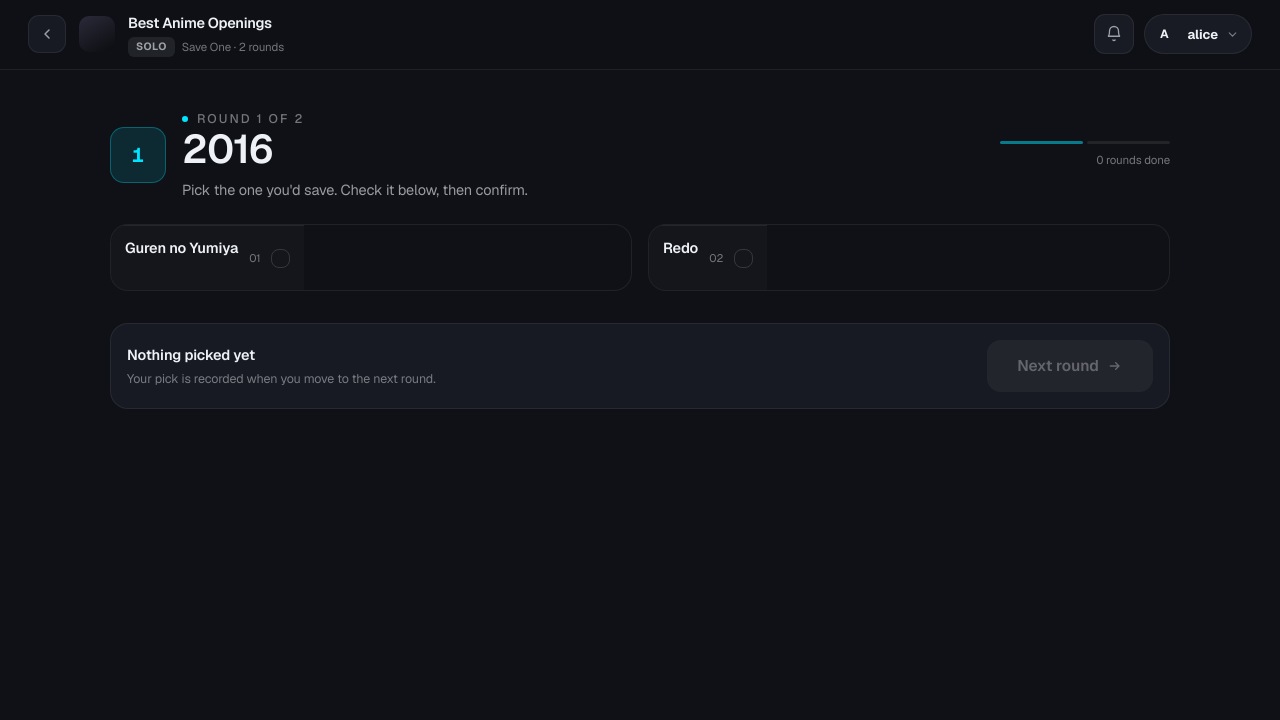
Test case: PlayScreen › writes the last-play picks without waiting for the record request
Expected: the text "Guren no Yumiya" is shown, [125,238,238,257]
Click the text "Redo": click(681, 248) [663,238,698,257]
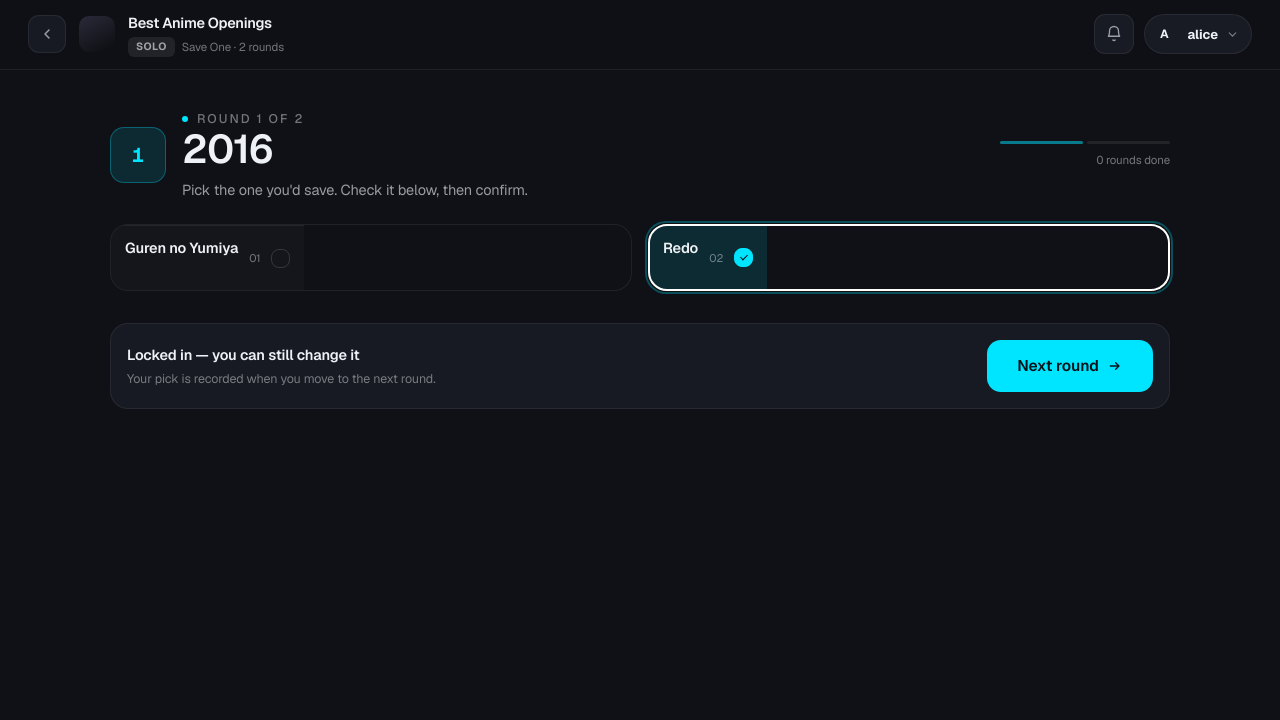
Click the button "Next round": click(1070, 366) [987,340,1153,392]
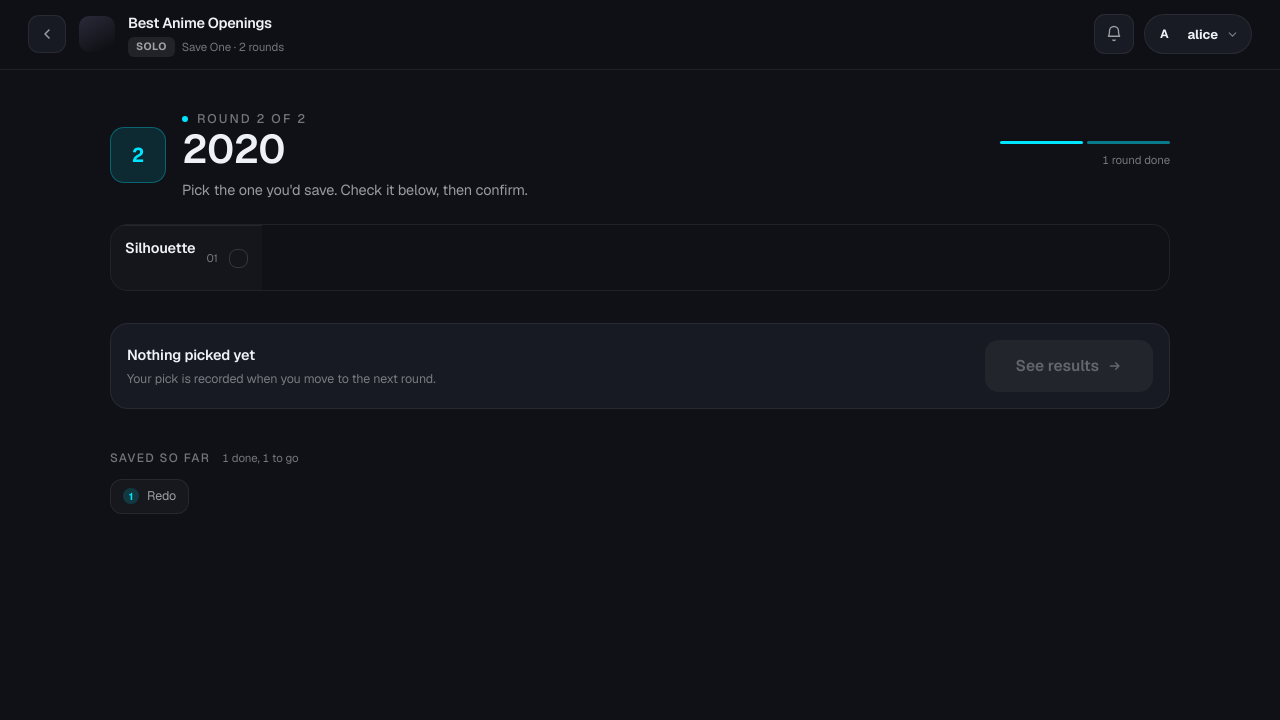
Expected: the text "Silhouette" is shown
Click the text "Silhouette": click(160, 248) [125,238,196,257]
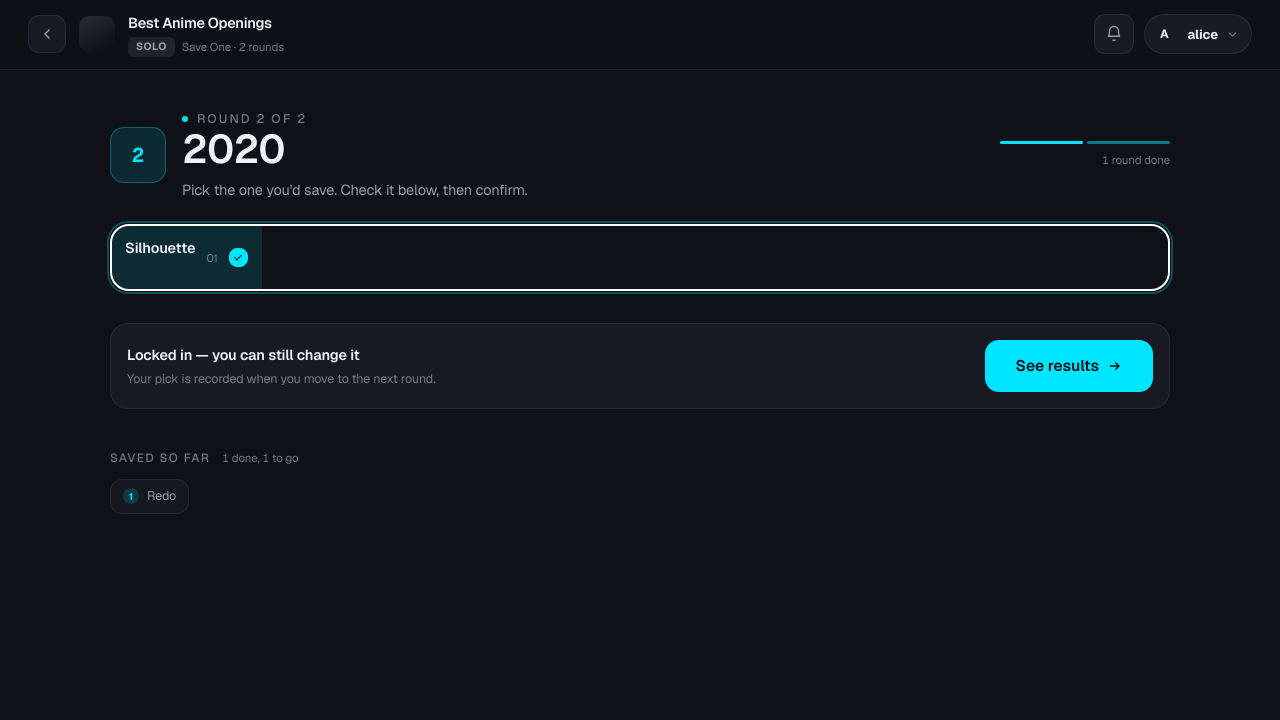
Click the button "See results": click(1069, 366) [985,340,1153,392]
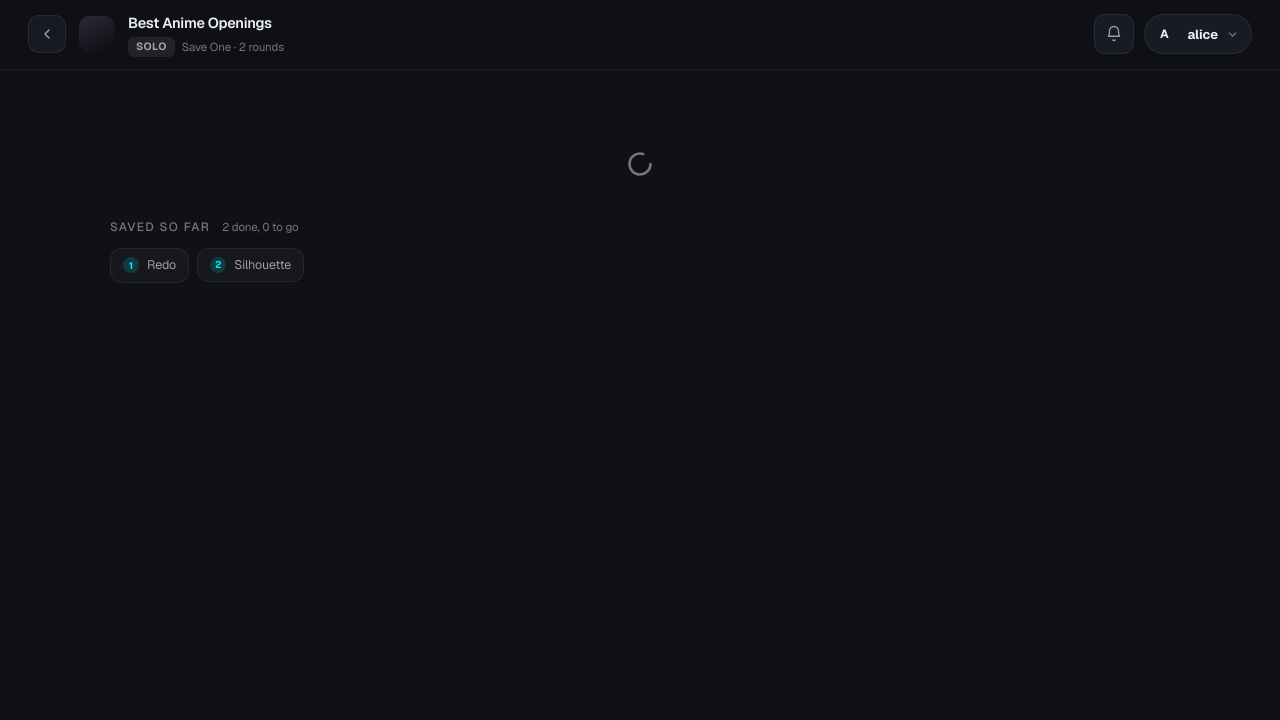
Expected: the message is shown, [626,150,797,185]
